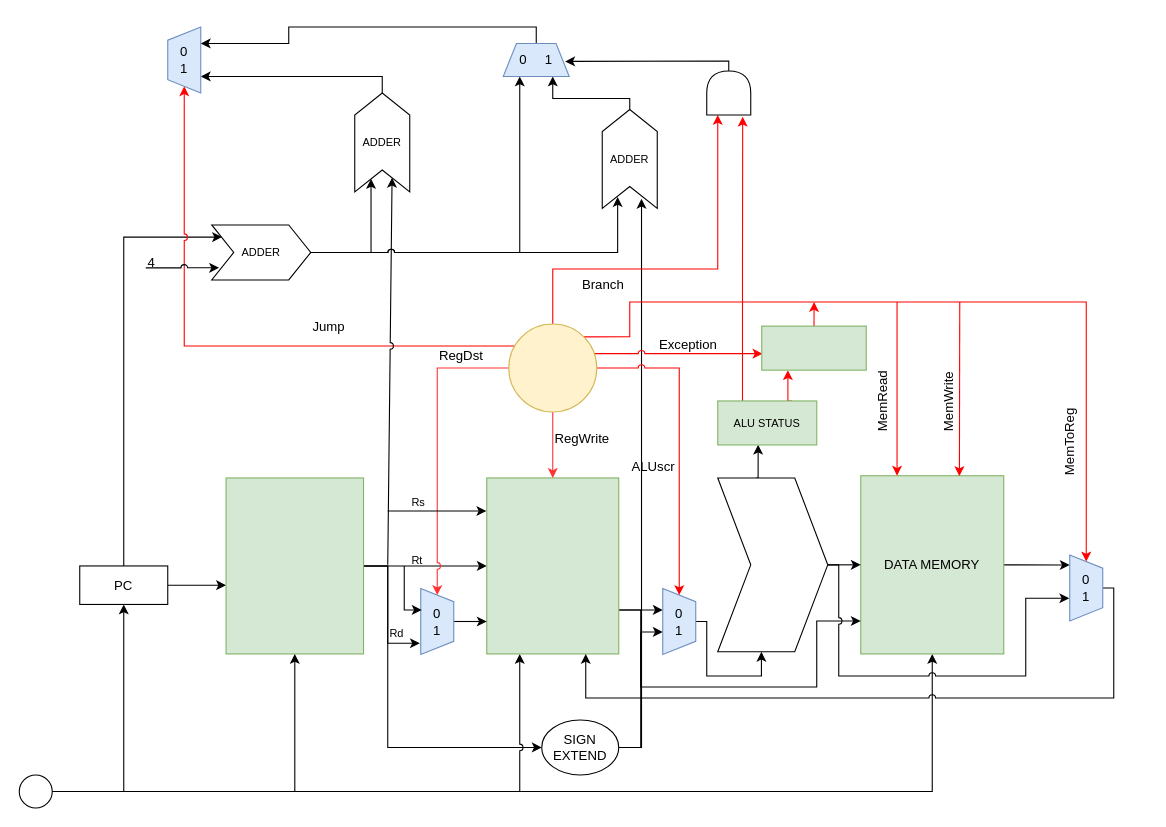
This 1166x827 diagram has some shape labels left out. Here are the shapes that lost their labels. From the top down, the centre of each, then its label:
At point (552, 367): "CONTROL".
At point (813, 347): "EXCEPTION HANDLE".
At point (294, 565): "INSTRUCTION MEMORY".
At point (552, 565): "REGISTER FILE".
At point (772, 564): "ALU".
At point (35, 791): "CLK".
